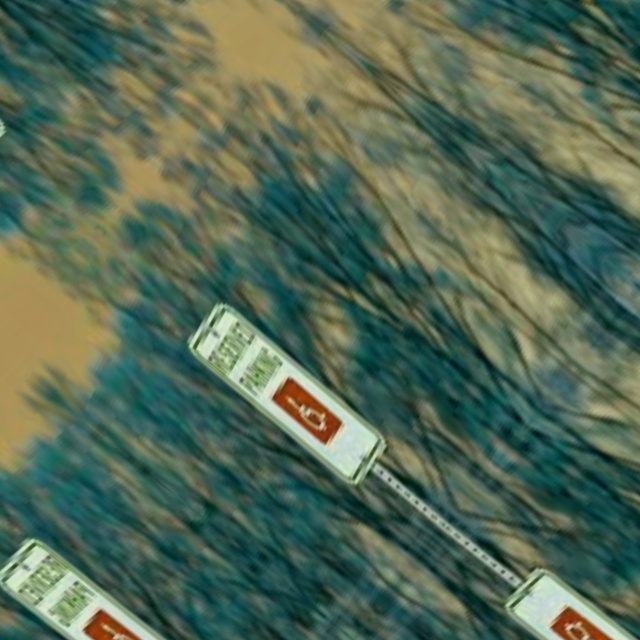ISA: (276, 384, 334, 437), (89, 614, 147, 640), (559, 614, 617, 640)
